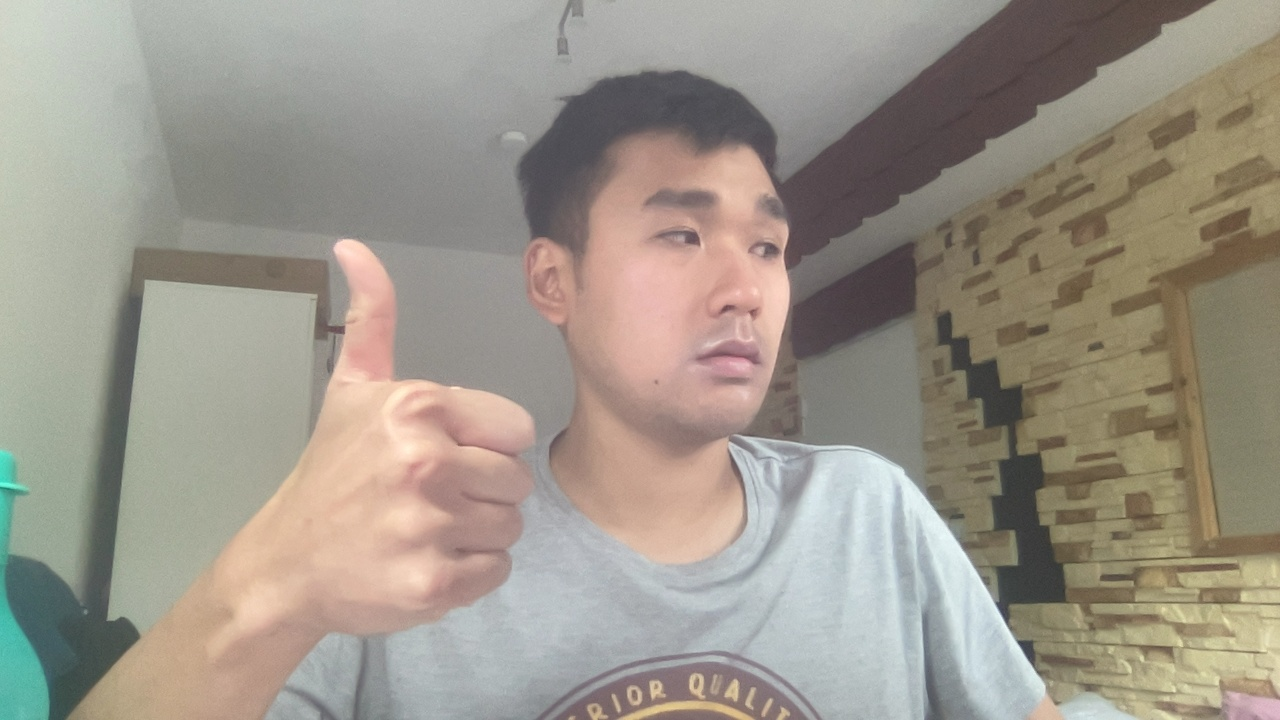good: (315, 237, 536, 634)
